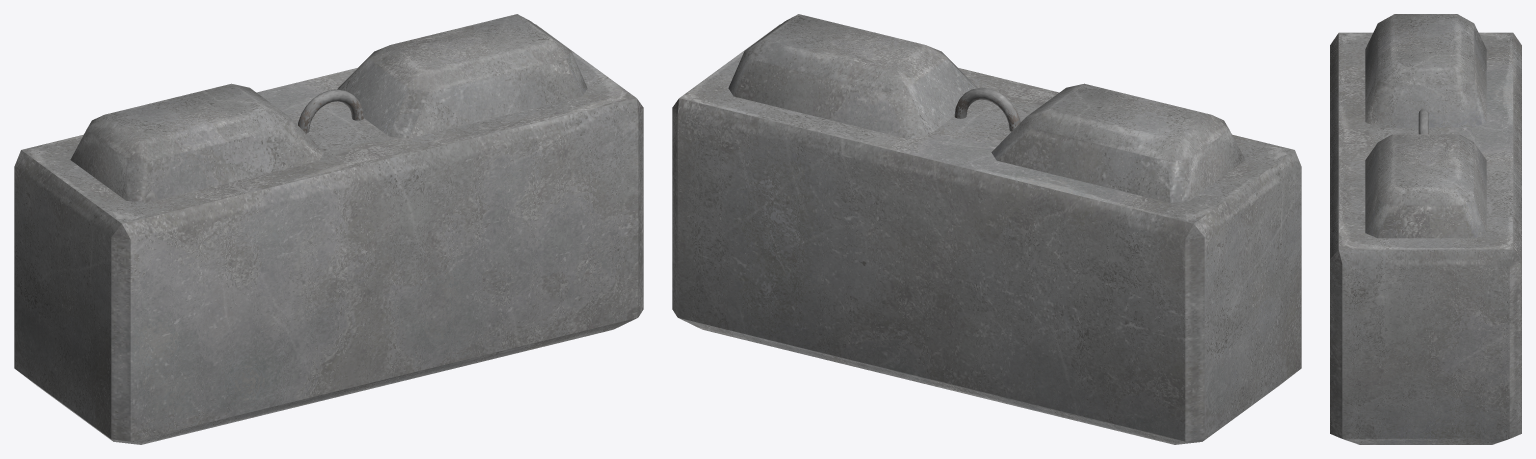
The model's file is Barrier_Block_2.obj.
The picture shows the model from 3 angles, left to right: view 1: azimuth 30°, elevation 25°; view 2: azimuth 150°, elevation 25°; view 3: azimuth 270°, elevation 25°; orthographic projection. The views are drawn at different scales.
Parts seen in each view (by area): view 1: Box004; view 2: Box004; view 3: Box004.
Part boxes in pixels (left/top/right/bottom): Box004: left=14, top=14, right=643, bottom=444; Box004: left=672, top=14, right=1301, bottom=444; Box004: left=1330, top=14, right=1521, bottom=444.
Size of the model in its own units: 60 by 29.54 by 21.69.
